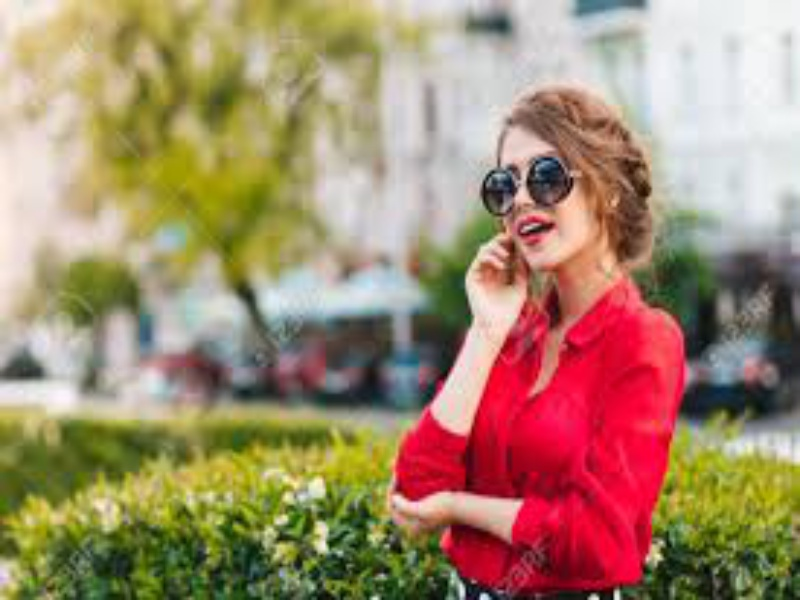TsisyArotava: (457, 88, 648, 283)
